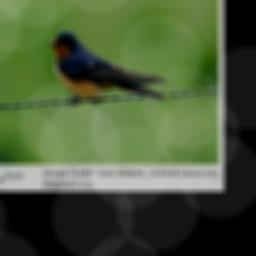Swallow: (48, 30, 166, 100)
